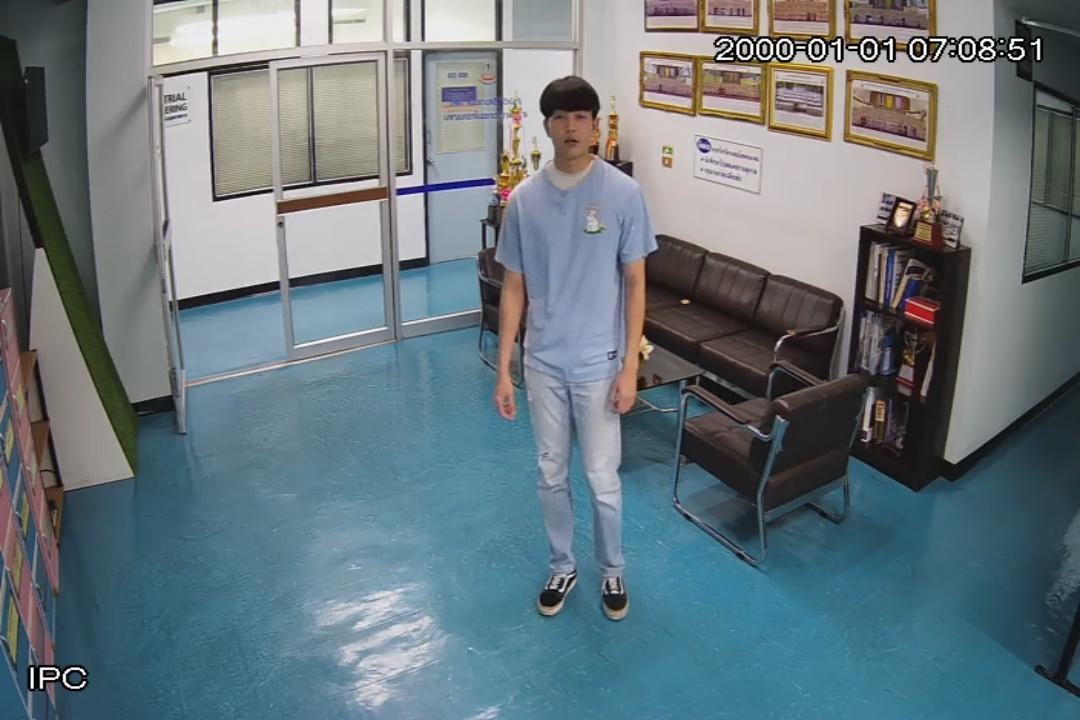normal: (492, 67, 650, 630)
